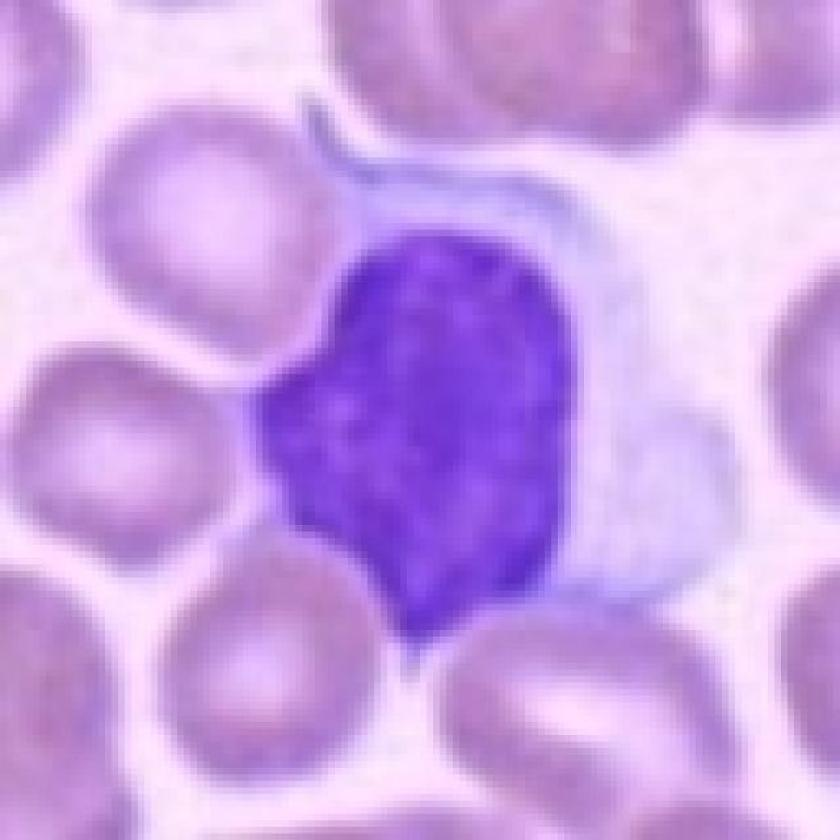lymphocyte: (195, 85, 752, 674)
